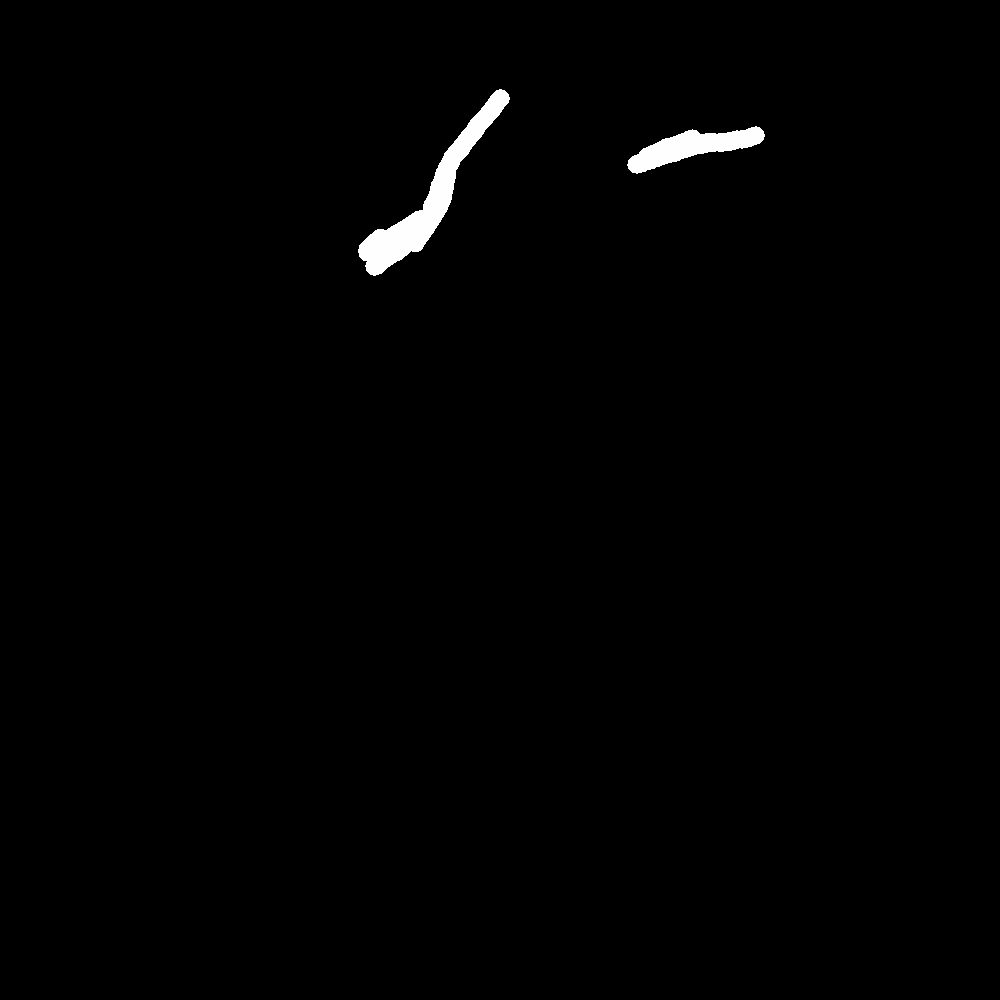illegal: (326, 214, 418, 281)
